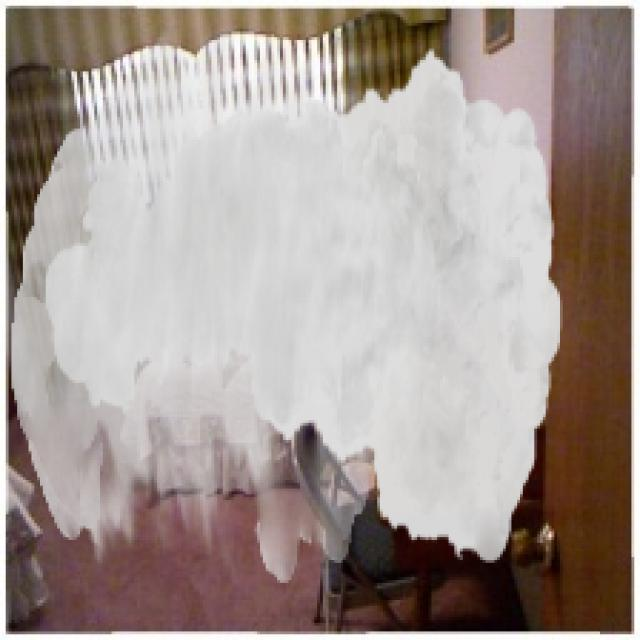Smoke: (11, 26, 563, 583)
